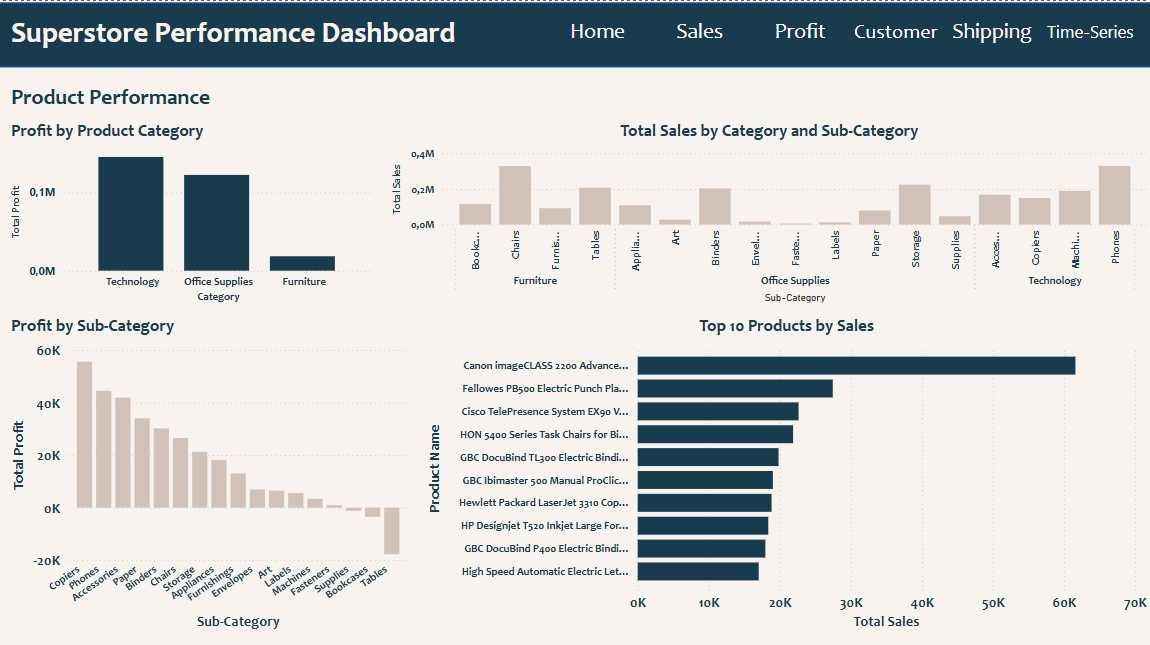

Layout of this report page (visuals, bound fields, positions):
{"tool":"powerbi","page":{"name":"Product","canvas":[1280,720],"ordinal":4},"visuals":[{"type":"shape","box":[0,2,1280,72],"z":0},{"type":"textbox","box":[8,10,544,60],"z":1000},{"type":"actionButton","box":[606.7,13.3,116.7,40],"z":2000},{"type":"actionButton","box":[720,13.3,116.7,40],"z":3000},{"type":"actionButton","box":[835,13.3,110,40],"z":4000},{"type":"actionButton","box":[945,13.3,103.3,40],"z":5000},{"type":"actionButton","box":[1046.7,13.3,113.3,40],"z":6000},{"type":"actionButton","box":[1158.3,13.3,108.3,40],"z":7000},{"type":"columnChart","title":"Profit by Product Category","fields":{"Category":["dim_product.Category"],"Y":["Sum(fact_sales.Profit)"]},"box":[8.3,131.7,411.7,208.3],"z":8000},{"type":"textbox","box":[8.3,86.7,290,45],"z":9000},{"type":"columnChart","title":"Profit by Sub-Category","fields":{"Category":["dim_product.Sub-Category"],"Y":["Sum(fact_sales.Profit)"]},"box":[8.3,348.3,450,355],"z":10000},{"type":"columnChart","title":"Total Sales by Category and Sub-Category","fields":{"Y":["Sum(fact_sales.Sales)"],"Category":["dim_product.Category Hierarchy.Category","dim_product.Category Hierarchy.Sub-Category"]},"box":[431.7,131.7,848.3,208.3],"z":11000},{"type":"barChart","title":"Top 10 Products by Sales","fields":{"Category":["dim_product.Product Name"],"Y":["Sum(fact_sales.Sales)"]},"box":[470,348.3,810,355],"z":12000}]}

Visuals, with their boxes in screenshot pixels (x1, y1, x2, y2), scaled from the page's 1280x720 canvas onto the 1150x645 screenshot:
shape: box(0, 2, 1149, 66)
textbox: box(7, 9, 496, 63)
actionButton: box(545, 12, 650, 48)
actionButton: box(647, 12, 752, 48)
actionButton: box(750, 12, 849, 48)
actionButton: box(849, 12, 942, 48)
actionButton: box(940, 12, 1042, 48)
actionButton: box(1041, 12, 1138, 48)
"Profit by Product Category" columnChart: box(7, 118, 377, 305)
textbox: box(7, 78, 268, 118)
"Profit by Sub-Category" columnChart: box(7, 312, 412, 630)
"Total Sales by Category and Sub-Category" columnChart: box(388, 118, 1149, 305)
"Top 10 Products by Sales" barChart: box(422, 312, 1149, 630)
